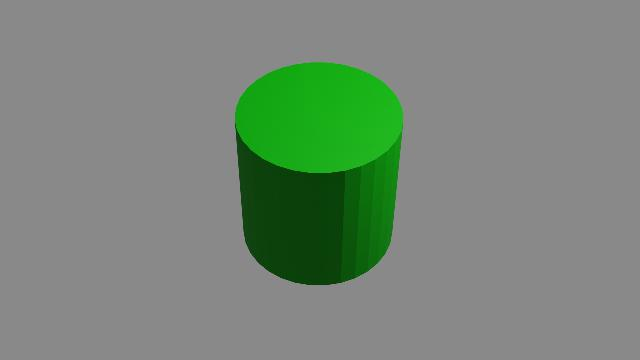Cylinder: (218, 57, 418, 293)
